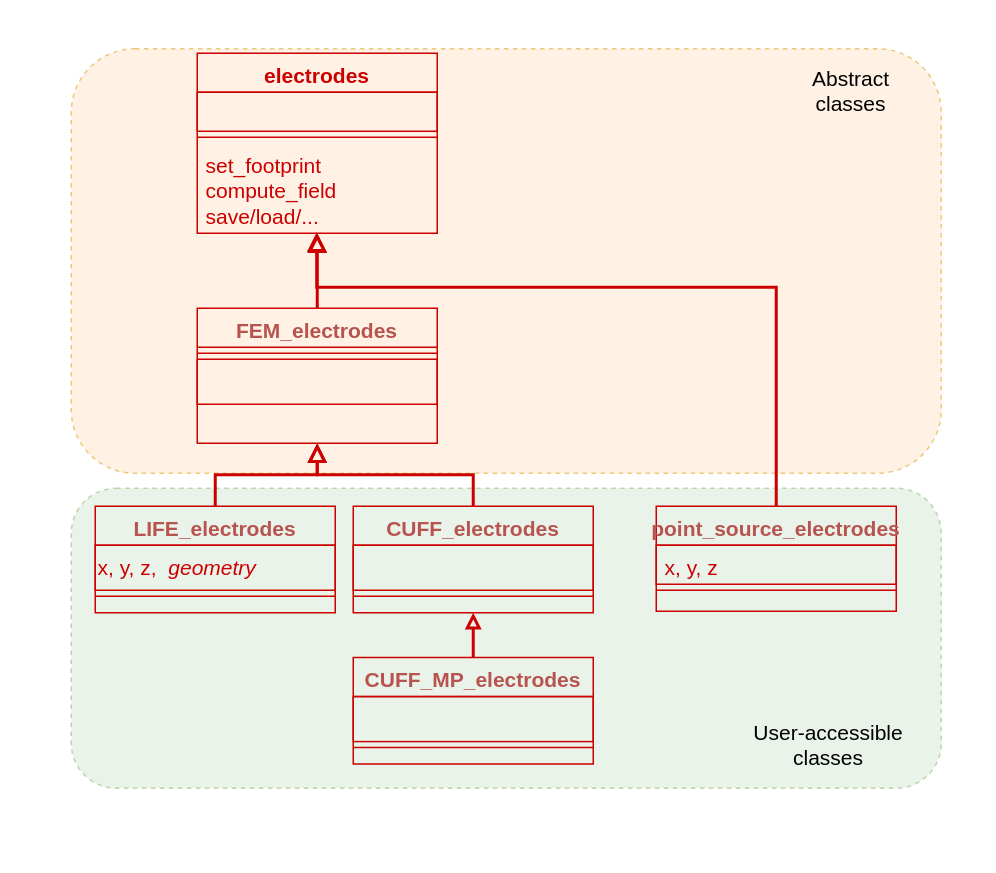
This 996x873 diagram has some shape labels left out. The shapes that lost their labels are listed below. From the top down, each one's centre as x and y in pixels, then its label:
point (316, 111): footprint
point (316, 381): parameter_model
point (472, 567): z, geometry
point (472, 718): z, N_contact, geometry
